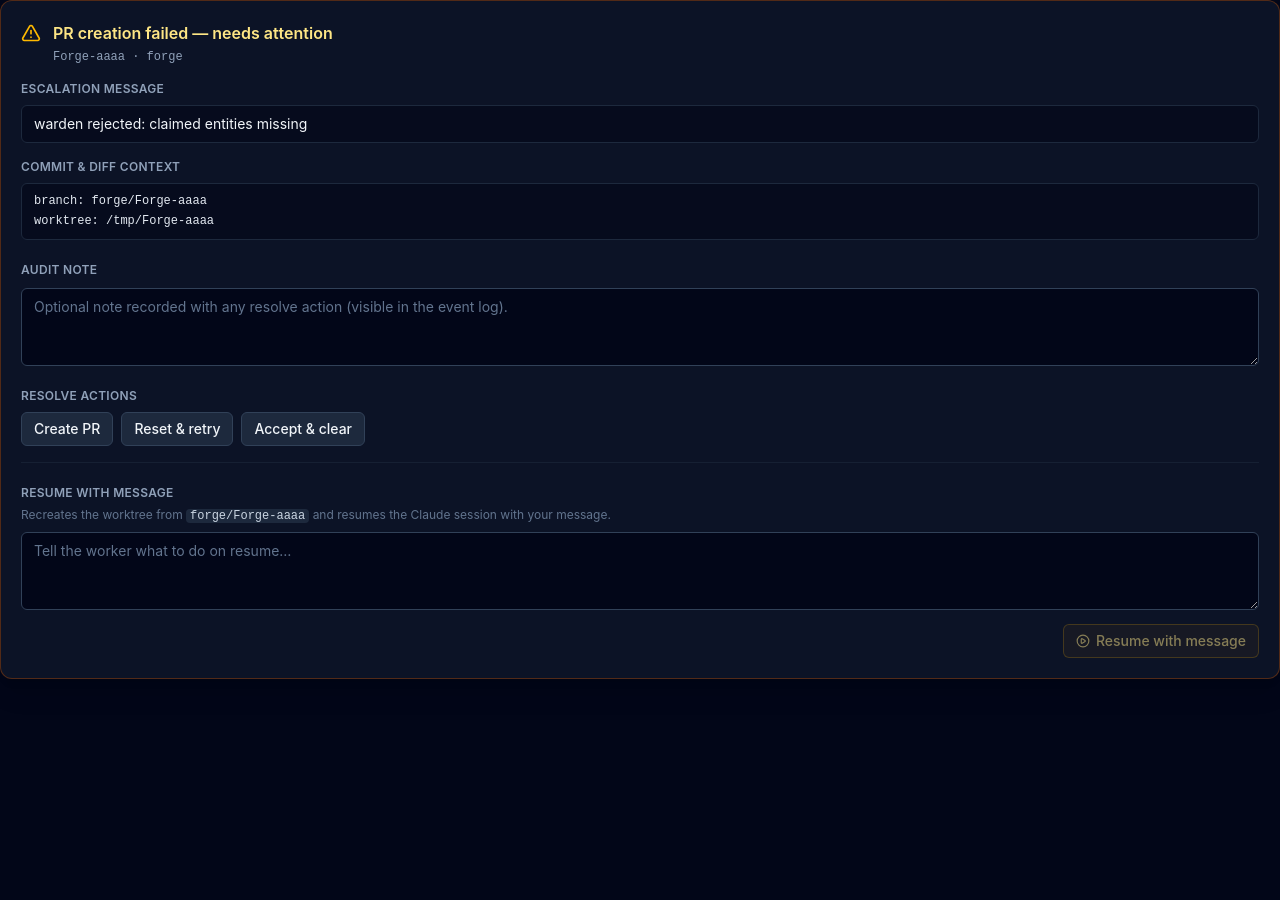
Test: ResolveNeedsAttentionPanel — pr_create_failed › POSTs create-pr and renders the returned PR number + link on success
Click the button "Create PR". click: (67, 429)
box: top-left (21, 412), bottom-right (113, 446)
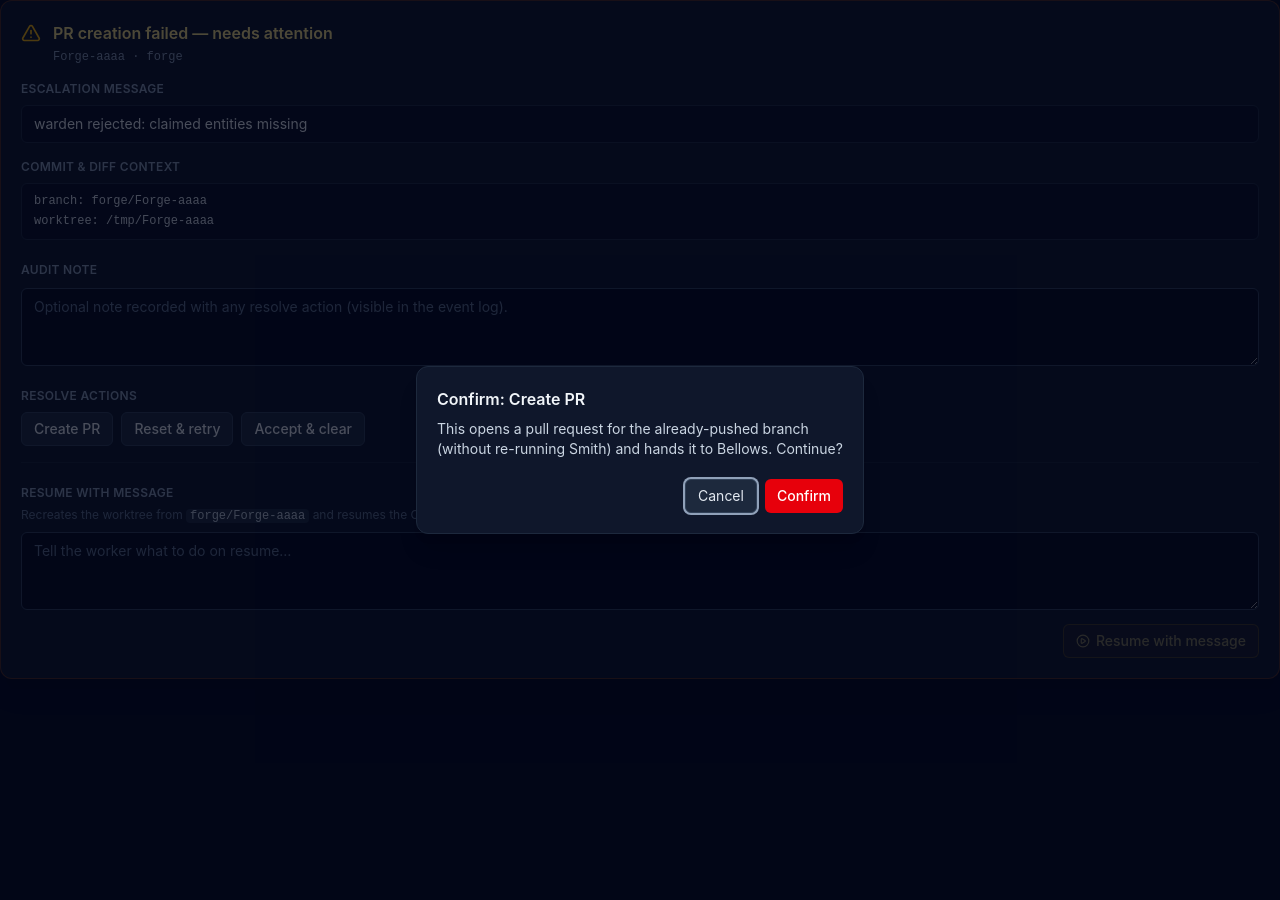
// create-pr is outward-facing → confirm before firing.
Click the button "Confirm". click: (804, 496)
box: top-left (765, 479), bottom-right (843, 513)
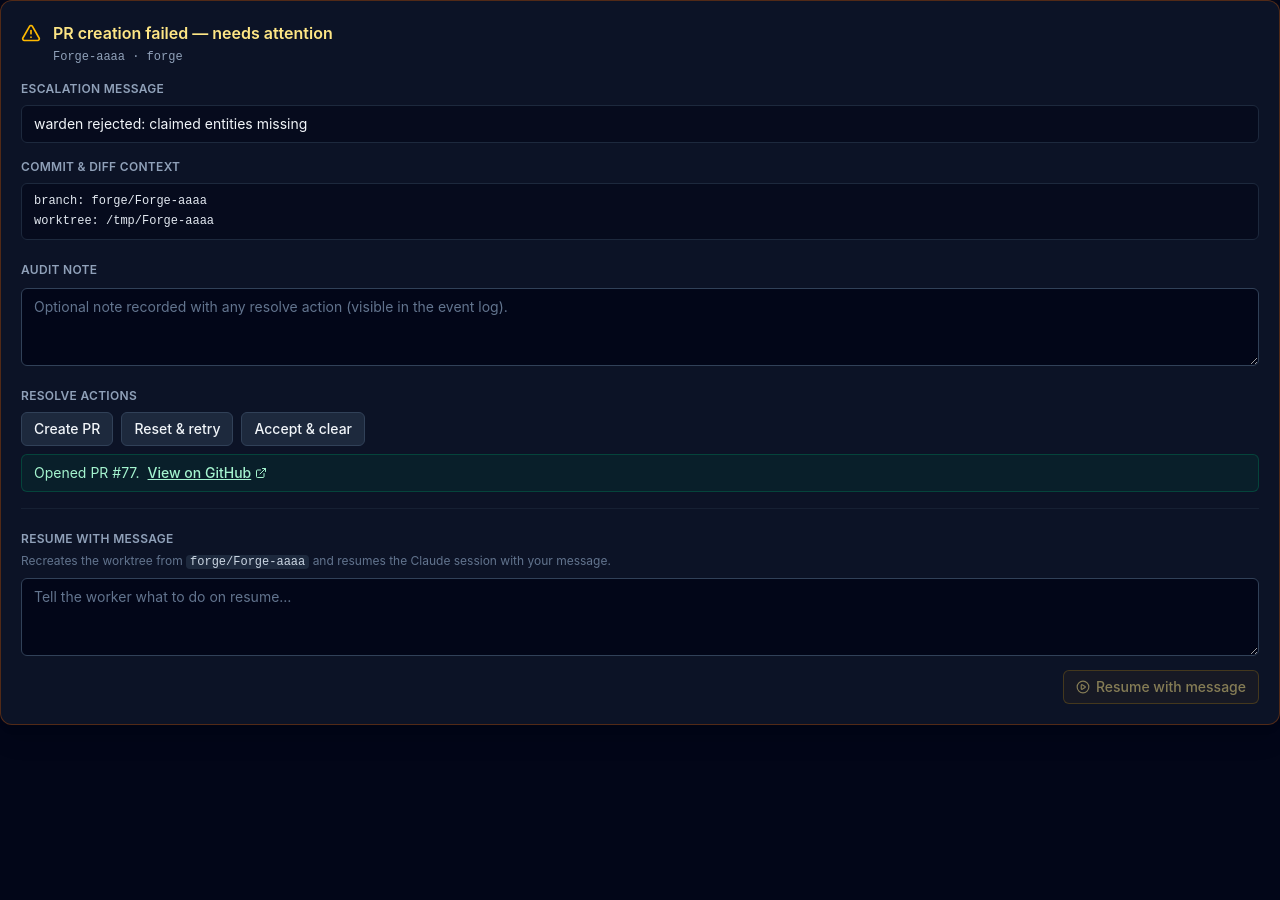
Expected: the text "Opened PR #77." is shown, top-left (34, 463), bottom-right (140, 483)
